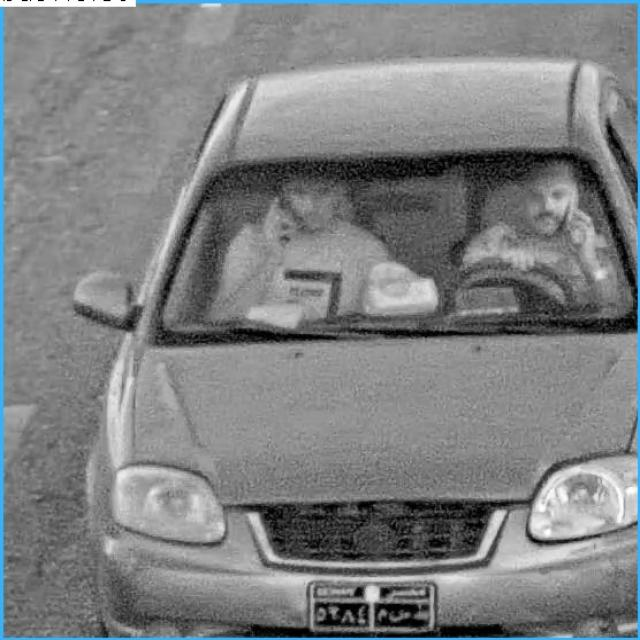windshield: (146, 138, 633, 348)
